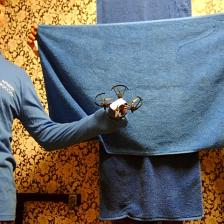drone: (93, 83, 144, 121)
